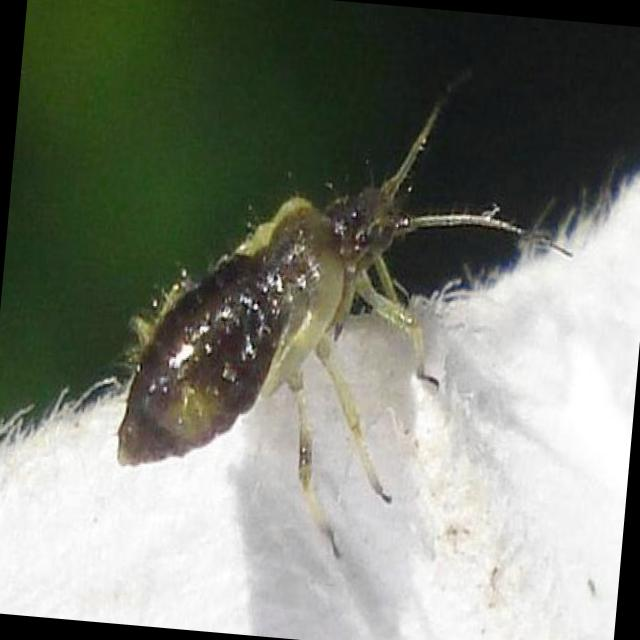aphid: (69, 68, 602, 538)
